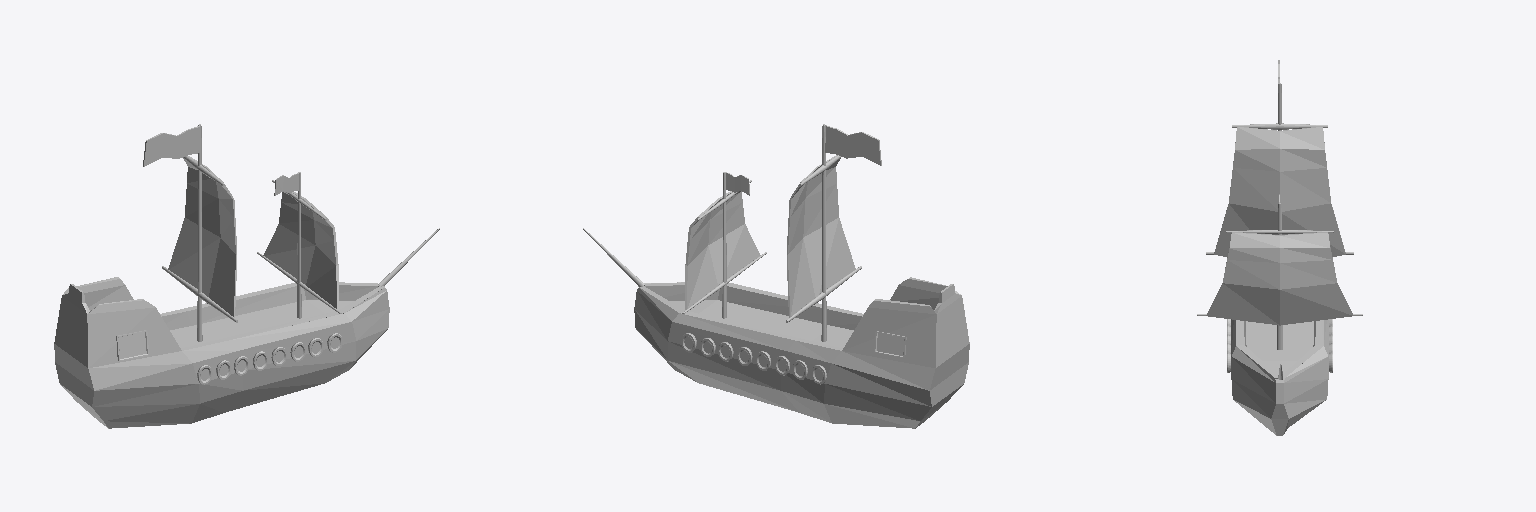
File: Boss_Ship.obj
The picture shows the model from 3 angles: view 1: azimuth 30°, elevation 25°; view 2: azimuth 150°, elevation 25°; view 3: azimuth 270°, elevation 25°; orthographic projection.
Visible parts, largest first — view 1: corpus, Plane, Plane.002, corpus.001, Plane.001, Balka1.001, okno; view 2: corpus, Plane, Plane.002, corpus.001, Plane.001, Balka1.001, okno.001; view 3: Plane, Plane.002, corpus, corpus.001.
Part boxes in pixels (x1,y1,x2,y2): corpus: (54, 277, 389, 428); Plane: (168, 156, 236, 317); Plane.002: (263, 191, 338, 309); corpus.001: (160, 282, 384, 350); Plane.001: (143, 126, 199, 166); Balka1.001: (197, 124, 202, 341); okno: (116, 330, 148, 360); corpus: (634, 277, 969, 428); Plane: (787, 155, 855, 317); Plane.002: (685, 191, 760, 309); corpus.001: (640, 282, 863, 350); Plane.001: (825, 125, 881, 165); Balka1.001: (821, 124, 826, 341); okno.001: (874, 331, 906, 357); Plane: (1214, 127, 1345, 256); Plane.002: (1206, 232, 1353, 325); corpus: (1231, 319, 1328, 435); corpus.001: (1236, 320, 1323, 377).
Bounding box in the file's own units: 12.52 × 9.48 × 4.89.